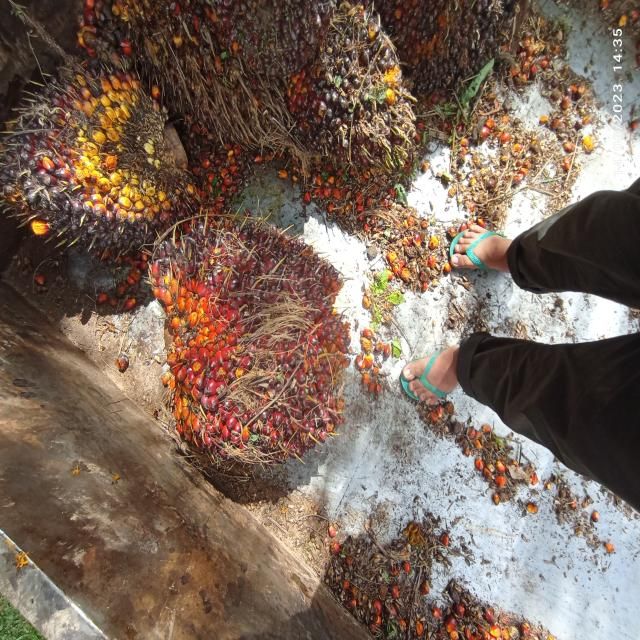fraksi 00: (0, 51, 216, 260), (280, 0, 431, 193)
fraksi 3: (119, 162, 381, 535)
